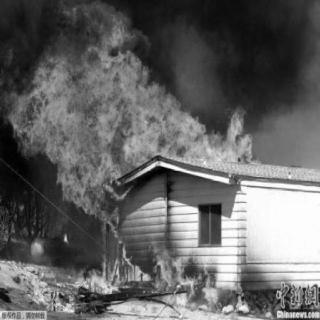Fire: (4, 6, 257, 304)
